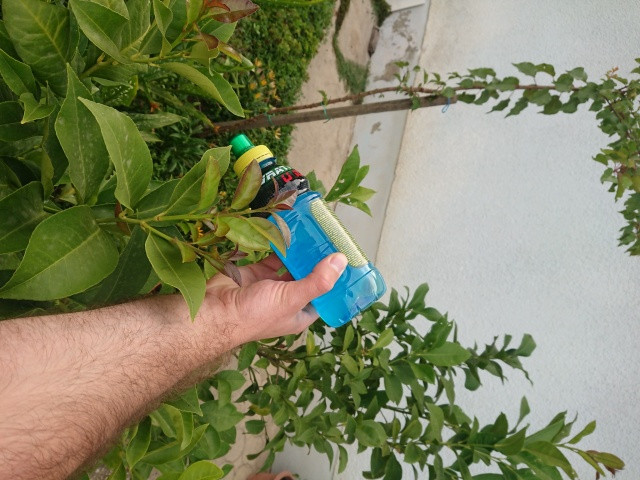Vindi Iso Sport Forest Strawberries 500mL: (228, 132, 388, 330)
